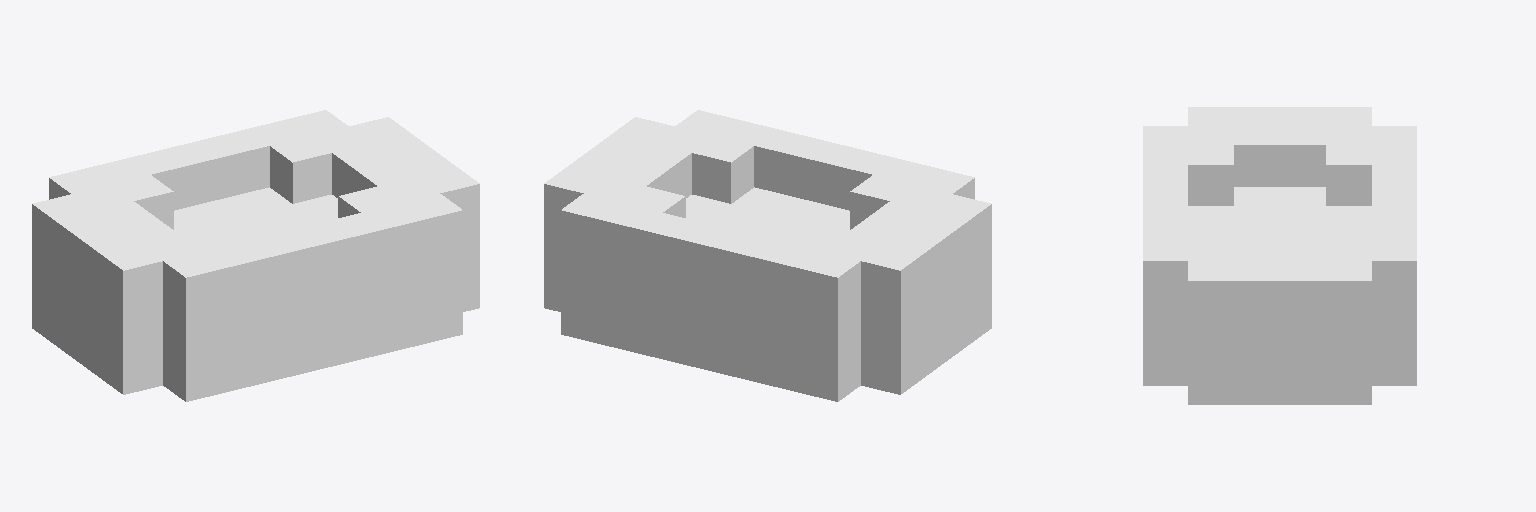
Rendered from voxel_soap.obj.
3 views of the same model, side by side, from view 1: azimuth 30°, elevation 25°; view 2: azimuth 150°, elevation 25°; view 3: azimuth 270°, elevation 25° (orthographic).
Visible parts, largest first — view 1: object 1; view 2: object 1; view 3: object 1.
Part boxes in pixels (x1,y1,x2,y2): object 1: (32,110,479,401); object 1: (544,110,991,401); object 1: (1143,107,1416,404).
Size of the model in its own units: 0.9 by 0.3 by 0.6.